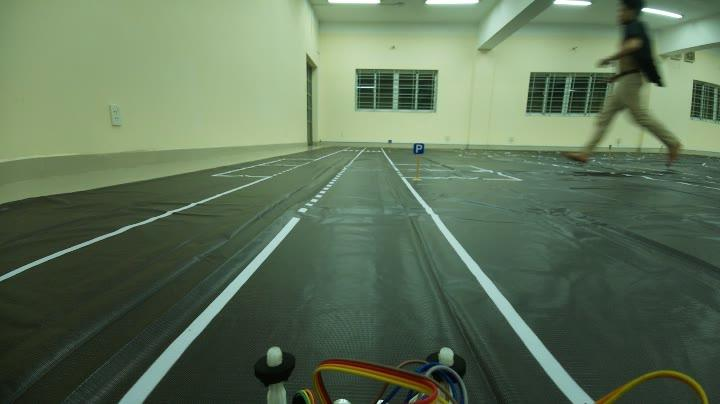parking: (409, 136, 430, 157)
